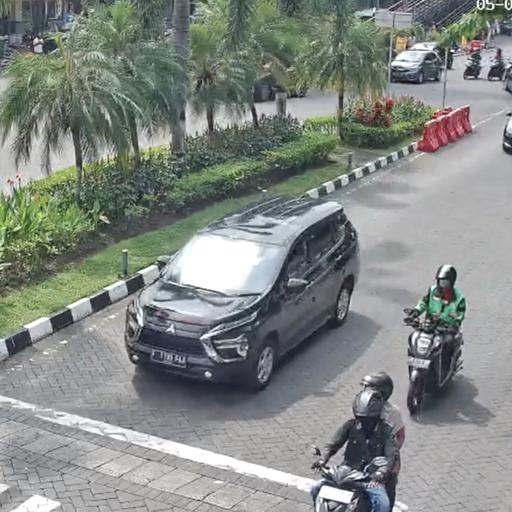mobil: (129, 192, 355, 382)
motor: (402, 301, 462, 416)
